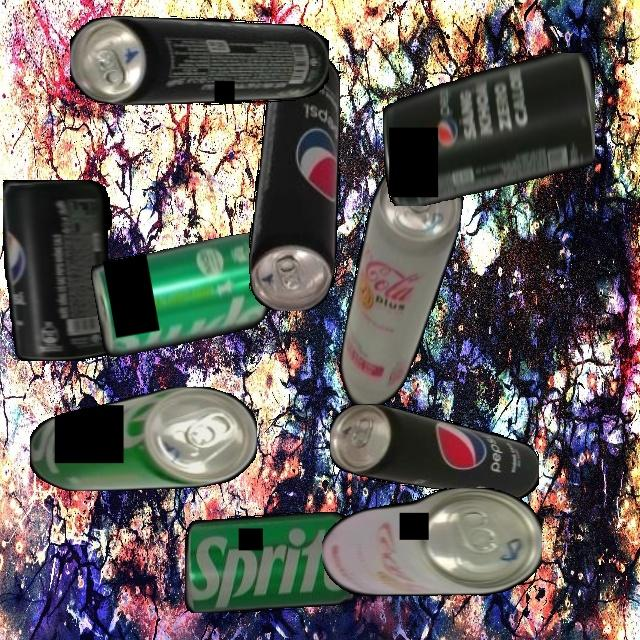debris: (331, 153, 469, 427), (382, 52, 595, 206), (89, 231, 278, 358), (321, 488, 542, 596), (248, 52, 340, 311), (29, 387, 257, 491), (70, 15, 329, 105), (330, 403, 539, 499), (3, 179, 112, 361), (184, 511, 355, 613)
